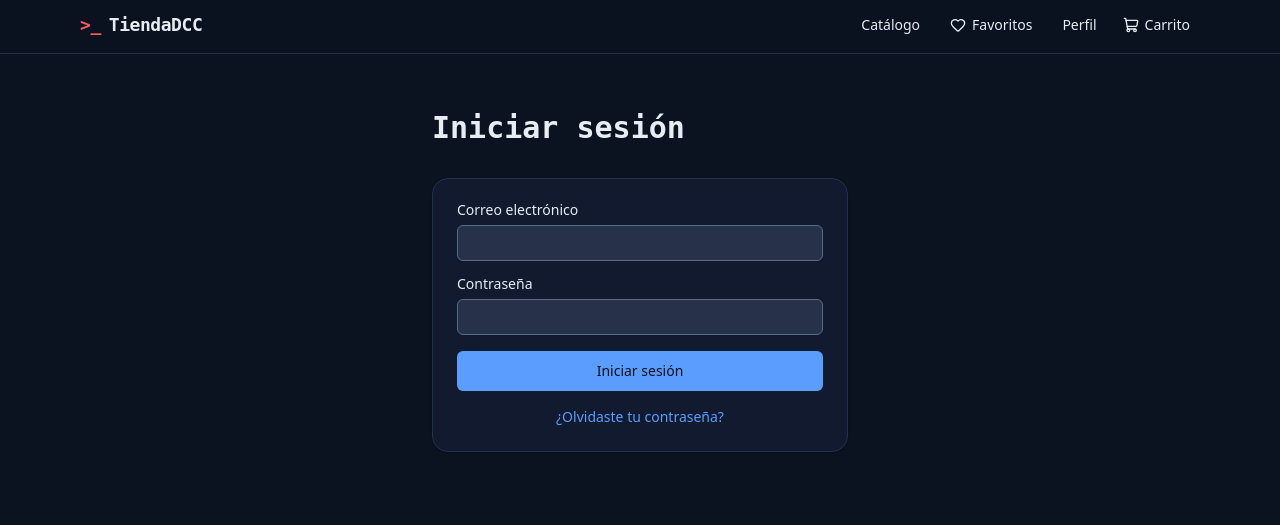
Test: LoginPage › clears a field error once the user edits that field
Step 1. Click the button "Iniciar sesión" → (640, 371), box [457,351,823,391]
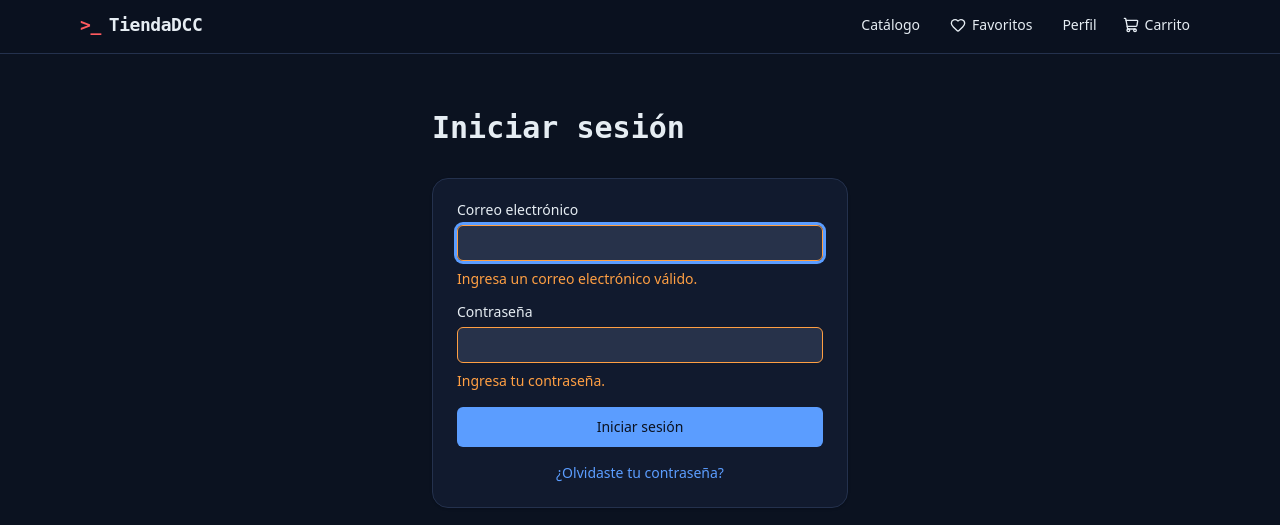
Now the text "Ingresa un correo electrónico válido." is shown, box [457,269,697,288]
Step 2. Type "ana@dcc.uchile.cl" into the field labelled "Correo electrónico" → (640, 243), box [457,225,823,261]
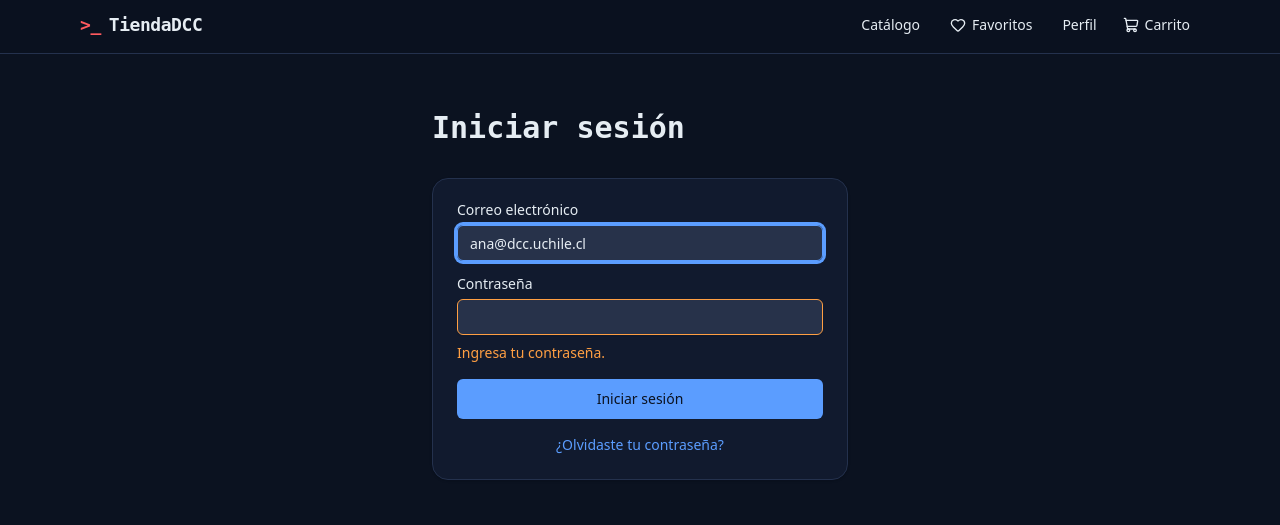
Now the text "Ingresa un correo electrónico válido." is gone
